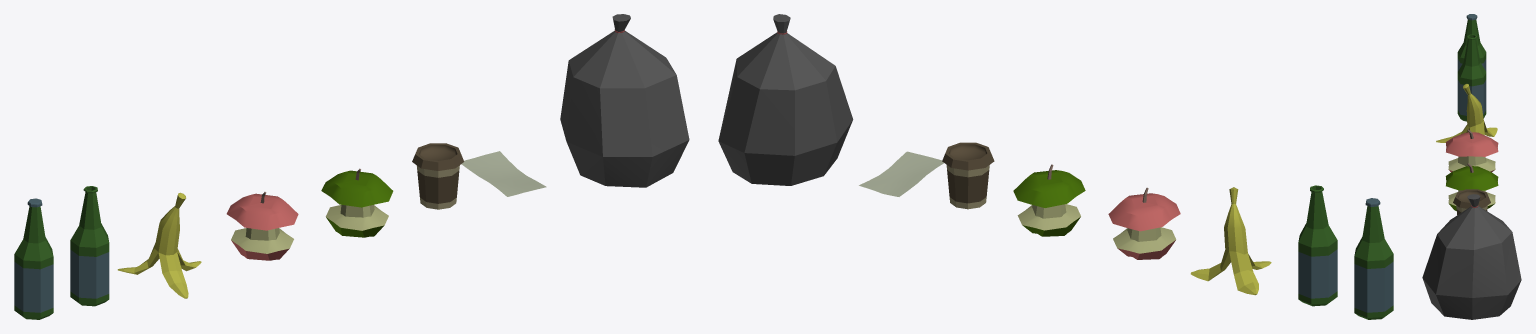
Rendered from Trash.fbx.
3 renders of one model, left to right at view 1: azimuth 30°, elevation 25°; view 2: azimuth 150°, elevation 25°; view 3: azimuth 270°, elevation 25°, orthographic. The views are drawn at different scales.
Visible parts, largest first — view 1: pasted__polySurface2, pCylinder2, pCylinder1, pCylinder6, pCylinder8, pCylinder5, pCylinder4, pPlane1; view 2: pasted__polySurface2, pCylinder2, pCylinder1, pCylinder6, pCylinder8, pCylinder5, pCylinder4, pPlane1; view 3: pasted__polySurface2, pCylinder1, pCylinder6, pCylinder8, pCylinder4, pCylinder2, pCylinder5.
Boxes of the visible parts, box(x1,y1,x2,y2) form: pasted__polySurface2: box(560, 14, 689, 187); pCylinder2: box(14, 198, 53, 319); pCylinder1: box(70, 186, 109, 306); pCylinder6: box(226, 192, 298, 260); pCylinder8: box(321, 168, 393, 237); pCylinder5: box(412, 143, 464, 209); pCylinder4: box(117, 192, 201, 298); pPlane1: box(461, 151, 546, 196); pasted__polySurface2: box(718, 14, 853, 185); pCylinder2: box(1354, 198, 1393, 319); pCylinder1: box(1298, 185, 1337, 306); pCylinder6: box(1108, 187, 1180, 259); pCylinder8: box(1013, 164, 1085, 236); pCylinder5: box(942, 142, 994, 209); pCylinder4: box(1190, 187, 1271, 295); pPlane1: box(859, 151, 943, 196); pasted__polySurface2: box(1422, 194, 1521, 319); pCylinder1: box(1457, 34, 1486, 121); pCylinder6: box(1445, 129, 1498, 172); pCylinder8: box(1445, 163, 1498, 210); pCylinder4: box(1436, 84, 1497, 142); pCylinder2: box(1457, 14, 1486, 71); pCylinder5: box(1453, 189, 1490, 214).
Bounding box in the file's own units: 0.3736 × 0.0829 × 0.067.
